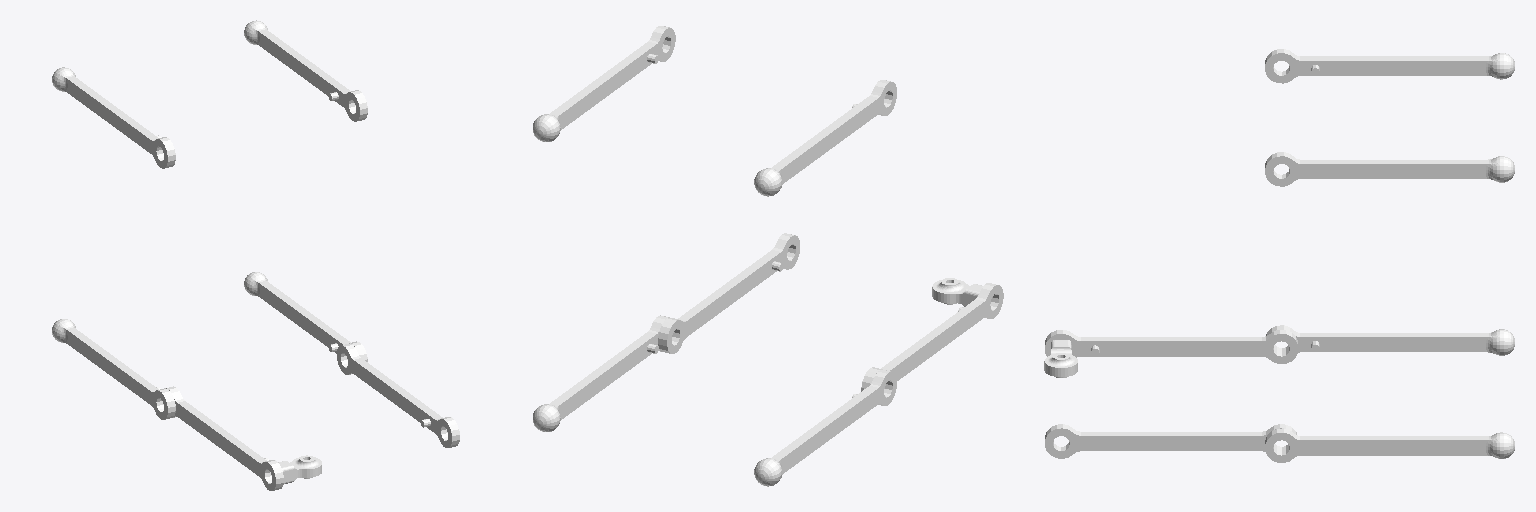
robot.urdf — dog_n2:
<?xml version="1.0" encoding="utf-8"?>
<!-- This URDF was automatically created by SolidWorks to URDF Exporter! Originally created by [author] ([email redacted]) 
     Commit Version: 1.5.1-0-g916b5db  Build Version: 1.5.7152.31018
     For more information, please see http://wiki.ros.org/sw_urdf_exporter -->
<robot
  name="dog_n2">
  <link
    name="base_link">
    <inertial>
      <origin
        xyz="0.026961 0.06548 0.16936"
        rpy="0 0 0" />
      <mass
        value="0.16551" />
      <inertia
        ixx="0.0003923"
        ixy="-4.0965E-09"
        ixz="4.6826E-10"
        iyy="0.0001428"
        iyz="-1.6727E-08"
        izz="0.00053235" />
    </inertial>
    <visual>
      <origin
        xyz="0 0 0"
        rpy="0 0 0" />
      <geometry>
        <mesh
          filename="package://dog_n2/meshes/base_link.STL" />
      </geometry>
      <material
        name="">
        <color
          rgba="1 1 1 1" />
      </material>
    </visual>
    <collision>
      <origin
        xyz="0 0 0"
        rpy="0 0 0" />
      <geometry>
        <mesh
          filename="package://dog_n2/meshes/base_link.STL" />
      </geometry>
    </collision>
  </link>
  <link
    name="lab_FL">
    <inertial>
      <origin
        xyz="-0.00691499568551896 2.77555756156289E-17 -0.00599999989355071"
        rpy="0 0 0" />
      <mass
        value="0.00388288484712263" />
      <inertia
        ixx="1.04650940823322E-07"
        ixy="1.00032122416166E-21"
        ixz="3.28972437877794E-15"
        iyy="3.64557783410698E-07"
        iyz="-2.60206831303292E-13"
        izz="4.05017083306772E-07" />
    </inertial>
    <visual>
      <origin
        xyz="0 0 0"
        rpy="0 0 0" />
      <geometry>
        <mesh
          filename="package://dog_n2/meshes/lab_FL.STL" />
      </geometry>
      <material
        name="">
        <color
          rgba="1 1 1 1" />
      </material>
    </visual>
    <collision>
      <origin
        xyz="0 0 0"
        rpy="0 0 0" />
      <geometry>
        <mesh
          filename="package://dog_n2/meshes/lab_FL.STL" />
      </geometry>
    </collision>
  </link>
  <joint
    name="jab_FL"
    type="continuous">
    <origin
      xyz="-0.013038 -0.16937 0.1506"
      rpy="3.1416 0 0" />
    <parent
      link="base_link" />
    <child
      link="lab_FL" />
    <axis
      xyz="0 0 1" />
    <limit
      lower="-1.57"
      upper="1.57"
      effort="3"
      velocity="3.14" />
  </joint>
  <link
    name="lhip_FL">
    <inertial>
      <origin
        xyz="0.0645400106619605 -0.00794377908090657 0"
        rpy="0 0 0" />
      <mass
        value="0.00960427623809624" />
      <inertia
        ixx="1.76741163234083E-07"
        ixy="2.40498792680468E-08"
        ixz="-2.57479651861504E-22"
        iyy="1.92743728772456E-05"
        iyz="-4.08541256281297E-23"
        izz="1.91609562437376E-05" />
    </inertial>
    <visual>
      <origin
        xyz="0 0 0"
        rpy="0 0 0" />
      <geometry>
        <mesh
          filename="package://dog_n2/meshes/lhip_FL.STL" />
      </geometry>
      <material
        name="">
        <color
          rgba="1 1 1 1" />
      </material>
    </visual>
    <collision>
      <origin
        xyz="0 0 0"
        rpy="0 0 0" />
      <geometry>
        <mesh
          filename="package://dog_n2/meshes/lhip_FL.STL" />
      </geometry>
    </collision>
  </link>
  <joint
    name="jhip_FL"
    type="continuous">
    <origin
      xyz="-0.018 0 -0.006"
      rpy="0 0 -1.5708" />
    <parent
      link="lab_FL" />
    <child
      link="lhip_FL" />
    <axis
      xyz="0 1 0" />
    <limit
      lower="-1.57"
      upper="1.57"
      effort="3"
      velocity="3.14" />
  </joint>
  <link
    name="lknee_FL">
    <inertial>
      <origin
        xyz="0.069957274950244 -0.00794846734311693 0"
        rpy="0 0 0" />
      <mass
        value="0.0104780399457648" />
      <inertia
        ixx="1.84790039279272E-07"
        ixy="2.69749919961358E-08"
        ixz="-3.86865148882755E-21"
        iyy="2.25383840800217E-05"
        iyz="-5.00777743545239E-14"
        izz="2.24645808161435E-05" />
    </inertial>
    <visual>
      <origin
        xyz="0 0 0"
        rpy="0 0 0" />
      <geometry>
        <mesh
          filename="package://dog_n2/meshes/lknee_FL.STL" />
      </geometry>
      <material
        name="">
        <color
          rgba="1 1 1 1" />
      </material>
    </visual>
    <collision>
      <origin
        xyz="0 0 0"
        rpy="0 0 0" />
      <geometry>
        <mesh
          filename="package://dog_n2/meshes/lknee_FL.STL" />
      </geometry>
    </collision>
  </link>
  <joint
    name="jknee_FL"
    type="continuous">
    <origin
      xyz="0.13 -0.006 0"
      rpy="0 0 0" />
    <parent
      link="lhip_FL" />
    <child
      link="lknee_FL" />
    <axis
      xyz="0 1 0" />
    <limit
      lower="-1.57"
      upper="1.57"
      effort="3"
      velocity="3.14" />
  </joint>
  <link
    name="lab_BL">
    <inertial>
      <origin
        xyz="-0.00691499568551892 5.55111512312578E-17 0.00600000010644931"
        rpy="0 0 0" />
      <mass
        value="0.00388288484712262" />
      <inertia
        ixx="1.04650940823322E-07"
        ixy="9.50350148669715E-22"
        ixz="3.28972454530459E-15"
        iyy="3.64557783410697E-07"
        iyz="-2.60206831266288E-13"
        izz="4.05017083306771E-07" />
    </inertial>
    <visual>
      <origin
        xyz="0 0 0"
        rpy="0 0 0" />
      <geometry>
        <mesh
          filename="package://dog_n2/meshes/lab_BL.STL" />
      </geometry>
      <material
        name="">
        <color
          rgba="1 1 1 1" />
      </material>
    </visual>
    <collision>
      <origin
        xyz="0 0 0"
        rpy="0 0 0" />
      <geometry>
        <mesh
          filename="package://dog_n2/meshes/lab_BL.STL" />
      </geometry>
    </collision>
  </link>
  <joint
    name="jab_BL"
    type="continuous">
    <origin
      xyz="-0.013038 -0.16937 -0.017404"
      rpy="3.1416 0 0" />
    <parent
      link="base_link" />
    <child
      link="lab_BL" />
    <axis
      xyz="0 0 1" />
    <limit
      lower="-1.57"
      upper="1.57"
      effort="3"
      velocity="3.14" />
  </joint>
  <link
    name="lhip_BL">
    <inertial>
      <origin
        xyz="0.0645400106619605 -0.00794377908090659 -2.77555756156289E-17"
        rpy="0 0 0" />
      <mass
        value="0.00960427623809622" />
      <inertia
        ixx="1.76741163234083E-07"
        ixy="2.40498792680504E-08"
        ixz="8.34147633492078E-21"
        iyy="1.92743728772456E-05"
        iyz="-1.67171012541295E-23"
        izz="1.91609562437376E-05" />
    </inertial>
    <visual>
      <origin
        xyz="0 0 0"
        rpy="0 0 0" />
      <geometry>
        <mesh
          filename="package://dog_n2/meshes/lhip_BL.STL" />
      </geometry>
      <material
        name="">
        <color
          rgba="1 1 1 1" />
      </material>
    </visual>
    <collision>
      <origin
        xyz="0 0 0"
        rpy="0 0 0" />
      <geometry>
        <mesh
          filename="package://dog_n2/meshes/lhip_BL.STL" />
      </geometry>
    </collision>
  </link>
  <joint
    name="jhip_BL"
    type="continuous">
    <origin
      xyz="-0.0179999999999999 0 0.00600000000000009"
      rpy="0 0 -1.5707963267949" />
    <parent
      link="lab_BL" />
    <child
      link="lhip_BL" />
    <axis
      xyz="0 1 0" />
    <limit
      lower="-1.57"
      upper="1.57"
      effort="3"
      velocity="3.14" />
  </joint>
  <link
    name="lknee_BL">
    <inertial>
      <origin
        xyz="0.0699572750687382 0.00794491809239425 -0.000237472168225623"
        rpy="0 0 0" />
      <mass
        value="0.0104780399457648" />
      <inertia
        ixx="1.84790038475002E-07"
        ixy="-2.69626172229234E-08"
        ixz="8.05907772502997E-10"
        iyy="2.25383182007561E-05"
        iyz="-2.20404719863234E-09"
        izz="2.24646466962135E-05" />
    </inertial>
    <visual>
      <origin
        xyz="0 0 0"
        rpy="0 0 0" />
      <geometry>
        <mesh
          filename="package://dog_n2/meshes/lknee_BL.STL" />
      </geometry>
      <material
        name="">
        <color
          rgba="1 1 1 1" />
      </material>
    </visual>
    <collision>
      <origin
        xyz="0 0 0"
        rpy="0 0 0" />
      <geometry>
        <mesh
          filename="package://dog_n2/meshes/lknee_BL.STL" />
      </geometry>
    </collision>
  </link>
  <joint
    name="jknee_BL"
    type="continuous">
    <origin
      xyz="0.13 -0.00600000000000046 0"
      rpy="-3.11171173046313 0 0" />
    <parent
      link="lhip_BL" />
    <child
      link="lknee_BL" />
    <axis
      xyz="0 0.999553598432897 -0.0298764766973523" />
    <limit
      lower="-1.57"
      upper="1.57"
      effort="3"
      velocity="3.14" />
  </joint>
  <link
    name="lab_FR">
    <inertial>
      <origin
        xyz="-0.00691499568551894 0 -0.00599999989355079"
        rpy="0 0 0" />
      <mass
        value="0.00388288484712262" />
      <inertia
        ixx="1.04650940823322E-07"
        ixy="8.86955923269881E-22"
        ixz="3.28972315210084E-15"
        iyy="3.64557783410697E-07"
        iyz="-2.6020683129909E-13"
        izz="4.05017083306771E-07" />
    </inertial>
    <visual>
      <origin
        xyz="0 0 0"
        rpy="0 0 0" />
      <geometry>
        <mesh
          filename="package://dog_n2/meshes/lab_FR.STL" />
      </geometry>
      <material
        name="">
        <color
          rgba="1 1 1 1" />
      </material>
    </visual>
    <collision>
      <origin
        xyz="0 0 0"
        rpy="0 0 0" />
      <geometry>
        <mesh
          filename="package://dog_n2/meshes/lab_FR.STL" />
      </geometry>
    </collision>
  </link>
  <joint
    name="jab_FR"
    type="continuous">
    <origin
      xyz="0.066962 -0.16937 0.1506"
      rpy="-3.1416 0 -3.1416" />
    <parent
      link="base_link" />
    <child
      link="lab_FR" />
    <axis
      xyz="0 0 1" />
    <limit
      lower="-1.57"
      upper="1.57"
      effort="3"
      velocity="3.14" />
  </joint>
  <link
    name="lhip_FR">
    <inertial>
      <origin
        xyz="0.0645400106619606 0.00794377908090611 -5.55111512312578E-17"
        rpy="0 0 0" />
      <mass
        value="0.00960427623809623" />
      <inertia
        ixx="1.76741163234083E-07"
        ixy="-2.4049879267914E-08"
        ixz="3.77144199234386E-21"
        iyy="1.92743728772456E-05"
        iyz="-6.71316368719996E-22"
        izz="1.91609562437376E-05" />
    </inertial>
    <visual>
      <origin
        xyz="0 0 0"
        rpy="0 0 0" />
      <geometry>
        <mesh
          filename="package://dog_n2/meshes/lhip_FR.STL" />
      </geometry>
      <material
        name="">
        <color
          rgba="1 1 1 1" />
      </material>
    </visual>
    <collision>
      <origin
        xyz="0 0 0"
        rpy="0 0 0" />
      <geometry>
        <mesh
          filename="package://dog_n2/meshes/lhip_FR.STL" />
      </geometry>
    </collision>
  </link>
  <joint
    name="jhip_FR"
    type="continuous">
    <origin
      xyz="-0.018 0 -0.00600000000000001"
      rpy="0 0 1.5707963267949" />
    <parent
      link="lab_FR" />
    <child
      link="lhip_FR" />
    <axis
      xyz="0 1 0" />
    <limit
      lower="-1.57"
      upper="1.57"
      effort="3"
      velocity="3.14" />
  </joint>
  <link
    name="lknee_FR">
    <inertial>
      <origin
        xyz="0.0699572749502441 0.00794846734311642 0"
        rpy="0 0 0" />
      <mass
        value="0.0104780399457648" />
      <inertia
        ixx="1.84790039279272E-07"
        ixy="-2.69749919959799E-08"
        ixz="3.14260248069787E-21"
        iyy="2.25383840800217E-05"
        iyz="-5.00777738781173E-14"
        izz="2.24645808161436E-05" />
    </inertial>
    <visual>
      <origin
        xyz="0 0 0"
        rpy="0 0 0" />
      <geometry>
        <mesh
          filename="package://dog_n2/meshes/lknee_FR.STL" />
      </geometry>
      <material
        name="">
        <color
          rgba="1 1 1 1" />
      </material>
    </visual>
    <collision>
      <origin
        xyz="0 0 0"
        rpy="0 0 0" />
      <geometry>
        <mesh
          filename="package://dog_n2/meshes/lknee_FR.STL" />
      </geometry>
    </collision>
  </link>
  <joint
    name="jknee_FR"
    type="continuous">
    <origin
      xyz="0.13 0.00599999999999953 0"
      rpy="0 0 0" />
    <parent
      link="lhip_FR" />
    <child
      link="lknee_FR" />
    <axis
      xyz="0 1 0" />
    <limit
      lower="-1.57"
      upper="1.57"
      effort="3"
      velocity="3.14" />
  </joint>
  <link
    name="lab_BR">
    <inertial>
      <origin
        xyz="0 0 0"
        rpy="0 0 0" />
      <mass
        value="0" />
      <inertia
        ixx="0"
        ixy="0"
        ixz="0"
        iyy="0"
        iyz="0"
        izz="0" />
    </inertial>
    <visual>
      <origin
        xyz="0 0 0"
        rpy="0 0 0" />
      <geometry>
        <mesh
          filename="package://dog_n2/meshes/lab_BR.STL" />
      </geometry>
      <material
        name="">
        <color
          rgba="1 1 1 1" />
      </material>
    </visual>
    <collision>
      <origin
        xyz="0 0 0"
        rpy="0 0 0" />
      <geometry>
        <mesh
          filename="package://dog_n2/meshes/lab_BR.STL" />
      </geometry>
    </collision>
  </link>
  <joint
    name="jab_BR"
    type="continuous">
    <origin
      xyz="0.066962 -0.16937 -0.017404"
      rpy="0 0 -3.1416" />
    <parent
      link="base_link" />
    <child
      link="lab_BR" />
    <axis
      xyz="0 0 1" />
    <limit
      lower="-1.57"
      upper="1.57"
      effort="3"
      velocity="3.14" />
  </joint>
  <link
    name="lhip_BR">
    <inertial>
      <origin
        xyz="0.0645400104928747 -0.00785192241670328 0.00120455895410896"
        rpy="0 0 0" />
      <mass
        value="0.00960427623809623" />
      <inertia
        ixx="1.7674116425791E-07"
        ixy="2.37721800262687E-08"
        ixz="-3.64687568716902E-09"
        iyy="1.92717650514557E-05"
        iyz="-1.69991162435212E-08"
        izz="1.91635640685036E-05" />
    </inertial>
    <visual>
      <origin
        xyz="0 0 0"
        rpy="0 0 0" />
      <geometry>
        <mesh
          filename="package://dog_n2/meshes/lhip_BR.STL" />
      </geometry>
      <material
        name="">
        <color
          rgba="1 1 1 1" />
      </material>
    </visual>
    <collision>
      <origin
        xyz="0 0 0"
        rpy="0 0 0" />
      <geometry>
        <mesh
          filename="package://dog_n2/meshes/lhip_BR.STL" />
      </geometry>
    </collision>
  </link>
  <joint
    name="jhip_BR"
    type="continuous">
    <origin
      xyz="-0.0179999999999999 0 -0.006"
      rpy="0.152222676096005 0 -1.57079630550958" />
    <parent
      link="lab_BR" />
    <child
      link="lhip_BR" />
    <axis
      xyz="0 0.988436483238201 -0.151635479369758" />
    <limit
      lower="-1.57"
      upper="1.57"
      effort="3"
      velocity="3.14" />
  </joint>
  <link
    name="lknee_BR">
    <inertial>
      <origin
        xyz="0.0699572749502441 0.00794846734311642 -1.73472347597681E-17"
        rpy="0 0 0" />
      <mass
        value="0.0104780399457648" />
      <inertia
        ixx="1.84790039279272E-07"
        ixy="-2.69749919959823E-08"
        ixz="-7.26129805593474E-22"
        iyy="2.25383840800217E-05"
        iyz="-5.00777738996765E-14"
        izz="2.24645808161436E-05" />
    </inertial>
    <visual>
      <origin
        xyz="0 0 0"
        rpy="0 0 0" />
      <geometry>
        <mesh
          filename="package://dog_n2/meshes/lknee_BR.STL" />
      </geometry>
      <material
        name="">
        <color
          rgba="1 1 1 1" />
      </material>
    </visual>
    <collision>
      <origin
        xyz="0 0 0"
        rpy="0 0 0" />
      <geometry>
        <mesh
          filename="package://dog_n2/meshes/lknee_BR.STL" />
      </geometry>
    </collision>
  </link>
  <joint
    name="jknee_BR"
    type="continuous">
    <origin
      xyz="0.129999999872288 -0.0059306216354937 0.000909813289479641"
      rpy="2.98936997749379 0 0" />
    <parent
      link="lhip_BR" />
    <child
      link="lknee_BR" />
    <axis
      xyz="0 1 0" />
    <limit
      lower="-1.57"
      upper="1.57"
      effort="3"
      velocity="3.14" />
  </joint>
</robot>

--- What the picture shows (computed from the rendered views, not written in the file) ---
3 views of the same robot in one strip: view 1: azimuth 30°, elevation 25°; view 2: azimuth 150°, elevation 25°; view 3: azimuth 270°, elevation 25° (orthographic).
Model dog_n2 with 13 links and 12 joints (12 continuous), rooted at base_link, posed all joints at 0.
Links seen in each view (by area): view 1: lhip_BR, lknee_FL, lknee_FR, lknee_BL, lhip_BL, lknee_BR, lab_BL; view 2: lhip_BR, lknee_FL, lknee_BL, lknee_FR, lknee_BR, lhip_BL, lab_BL; view 3: lknee_FL, lknee_BR, lknee_FR, lhip_BL, lhip_BR, lknee_BL, lab_BL.
Link boxes in pixels (left/top/right/bottom): lhip_BR: left=337, top=343, right=459, bottom=447; lknee_FL: left=52, top=67, right=175, bottom=168; lknee_FR: left=244, top=20, right=367, bottom=121; lknee_BL: left=52, top=319, right=175, bottom=419; lhip_BL: left=166, top=386, right=283, bottom=490; lknee_BR: left=244, top=272, right=367, bottom=361; lab_BL: left=278, top=455, right=321, bottom=483; lhip_BR: left=658, top=233, right=799, bottom=353; lknee_FL: left=754, top=80, right=896, bottom=196; lknee_BL: left=754, top=370, right=896, bottom=486; lknee_FR: left=533, top=26, right=675, bottom=141; lknee_BR: left=533, top=315, right=669, bottom=431; lhip_BL: left=861, top=283, right=1003, bottom=391; lab_BL: left=932, top=278, right=982, bottom=306; lknee_FL: left=1265, top=49, right=1514, bottom=83; lknee_BR: left=1265, top=428, right=1514, bottom=462; lknee_FR: left=1265, top=152, right=1514, bottom=186; lhip_BL: left=1045, top=330, right=1297, bottom=363; lhip_BR: left=1045, top=424, right=1296, bottom=458; lknee_BL: left=1266, top=325, right=1514, bottom=355; lab_BL: left=1044, top=340, right=1077, bottom=377.
Size in the robot's own frame: 0.1598 by 0.278 by 0.1999 metres.
Meshes: 13 distinct files referenced, 7 mesh visuals loaded (7 binary STL); not drawn: 6 (reference not matched to a file when rendering).